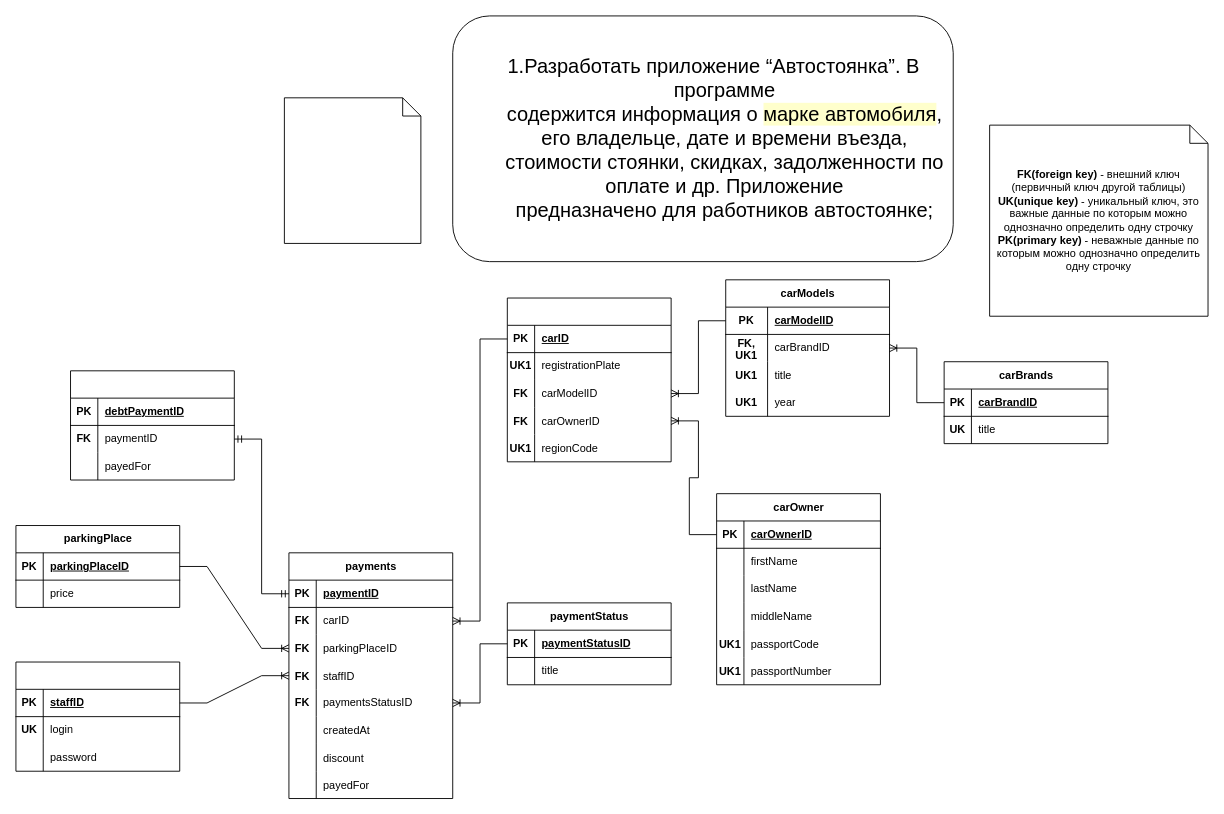
This 1224x814 diagram has some shape labels left out. The box of each missing label's shape, as (x1, y1, x2, y2) in pixels:
cars: (506, 297, 671, 462)
debtsPayments: (70, 370, 234, 480)
staff(сотрудник): (15, 661, 180, 771)
можно делать словарик для таблицы статусов: (283, 97, 421, 243)
